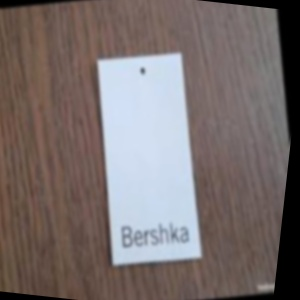bershka: (112, 87, 276, 300)
